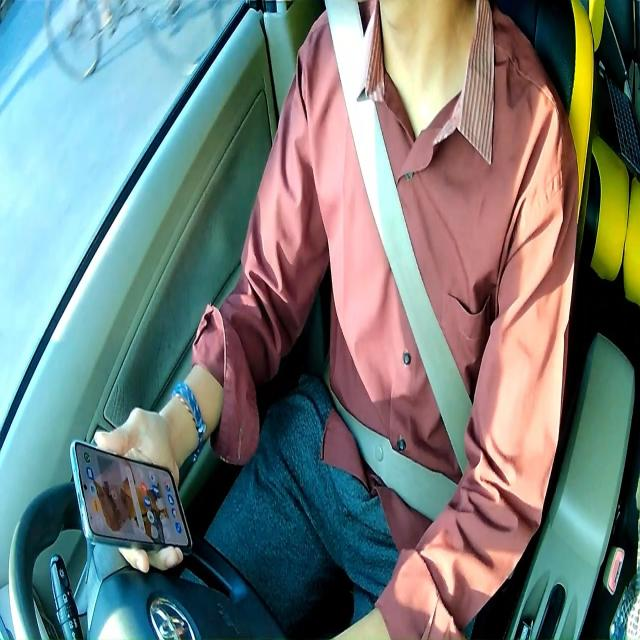phone: (68, 436, 194, 558)
